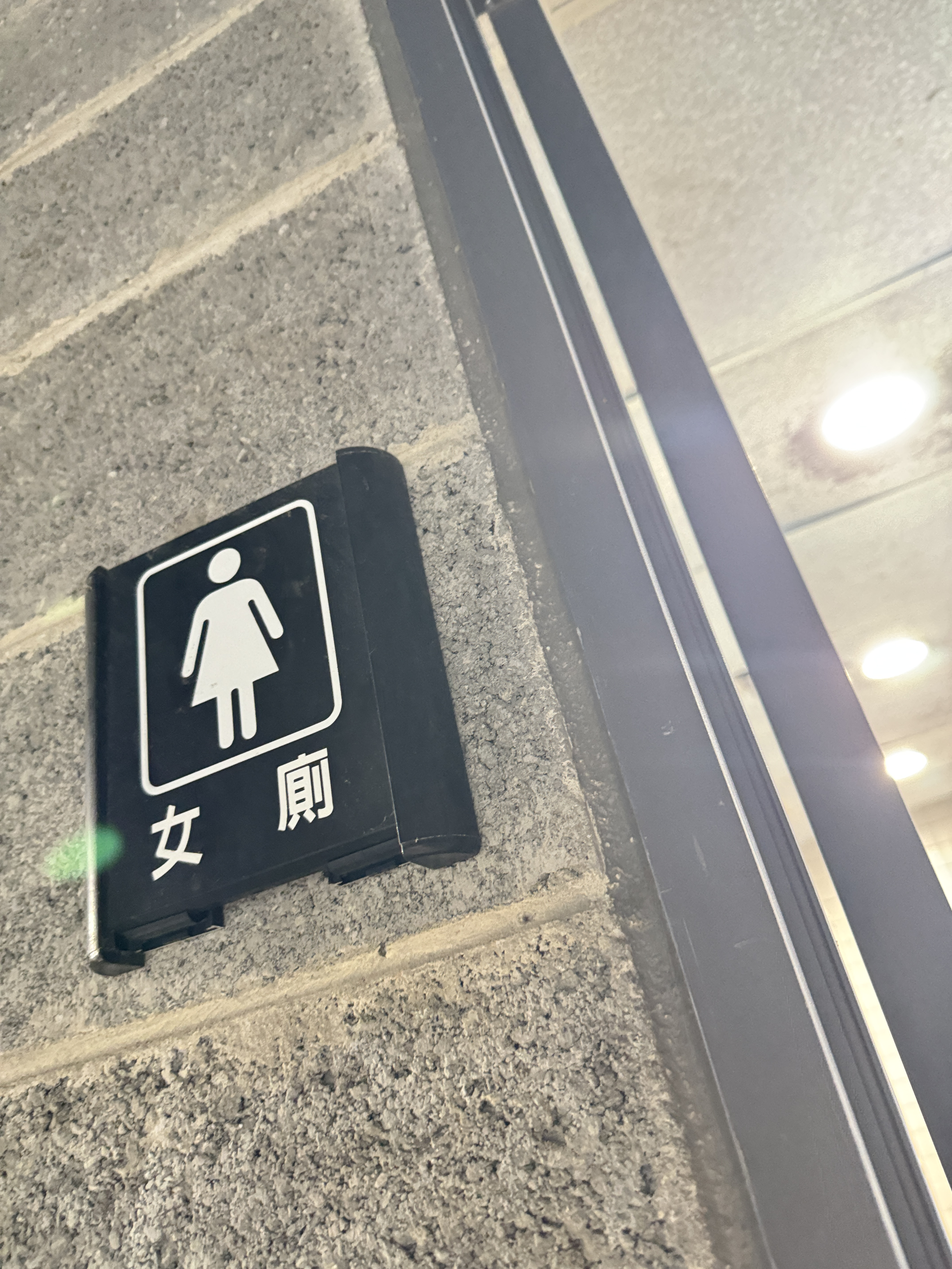toilet_sign: (60, 435, 506, 983), (52, 461, 502, 931)
